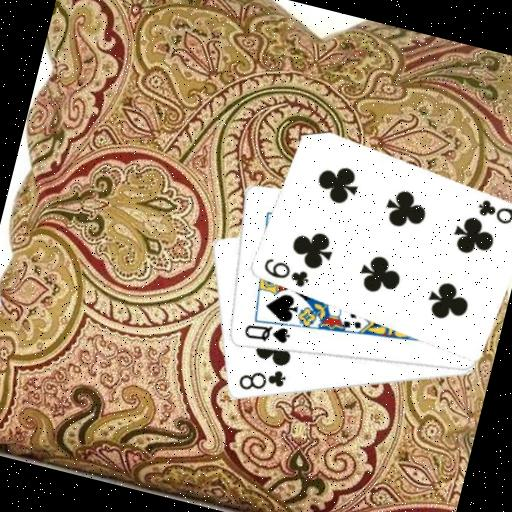6C: (257, 254, 313, 291), (471, 195, 512, 231)
8C: (234, 358, 290, 401)
QS: (239, 316, 293, 350)
